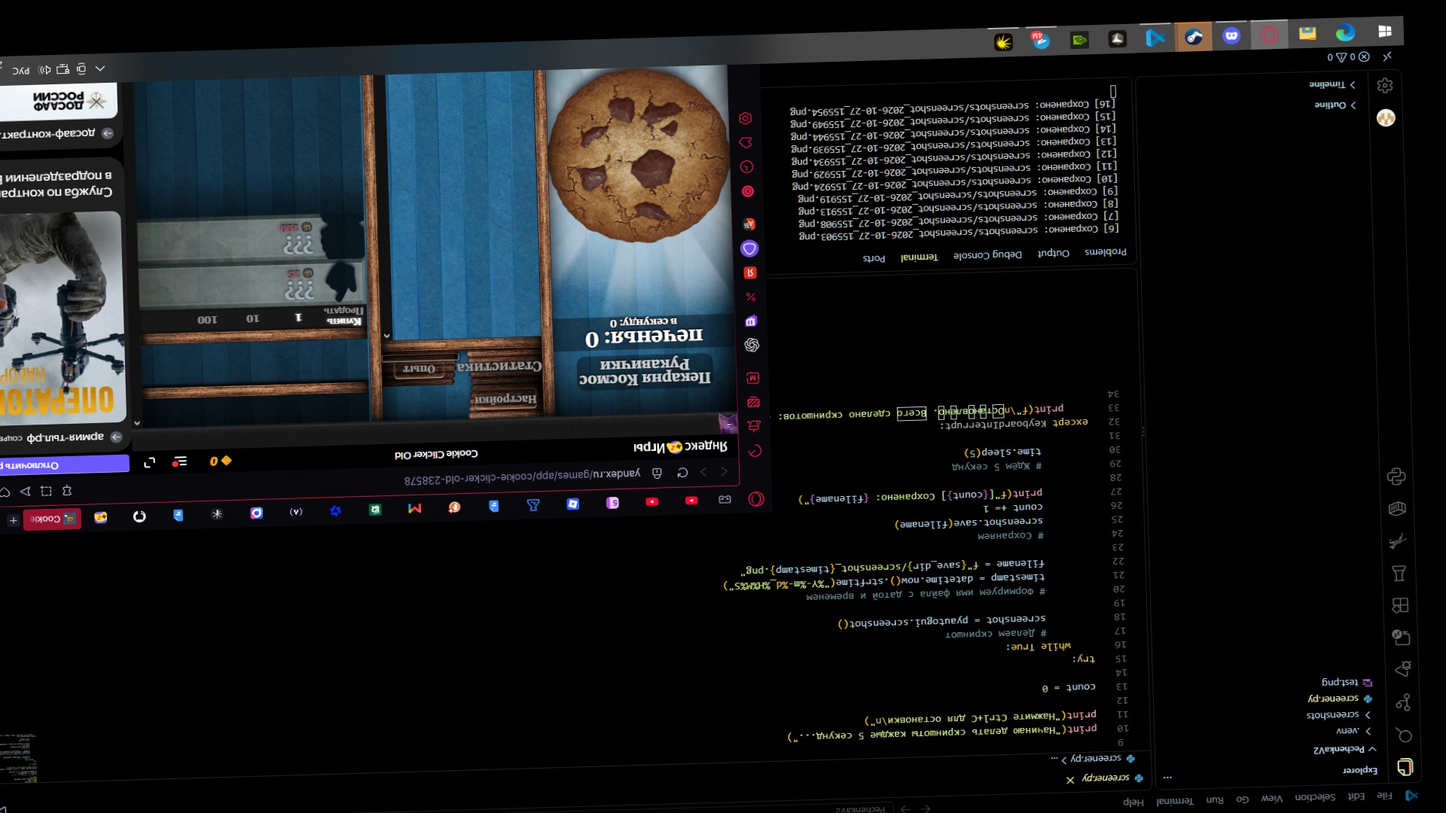game: (550, 71, 720, 231)
pokypki: (134, 213, 371, 331)
